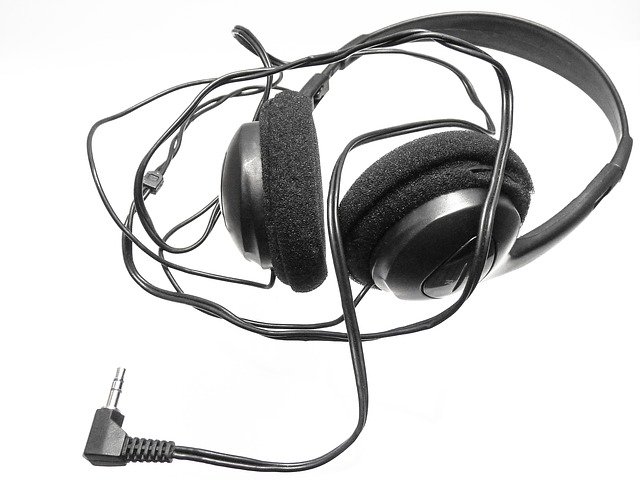headphones: (221, 11, 633, 301)
